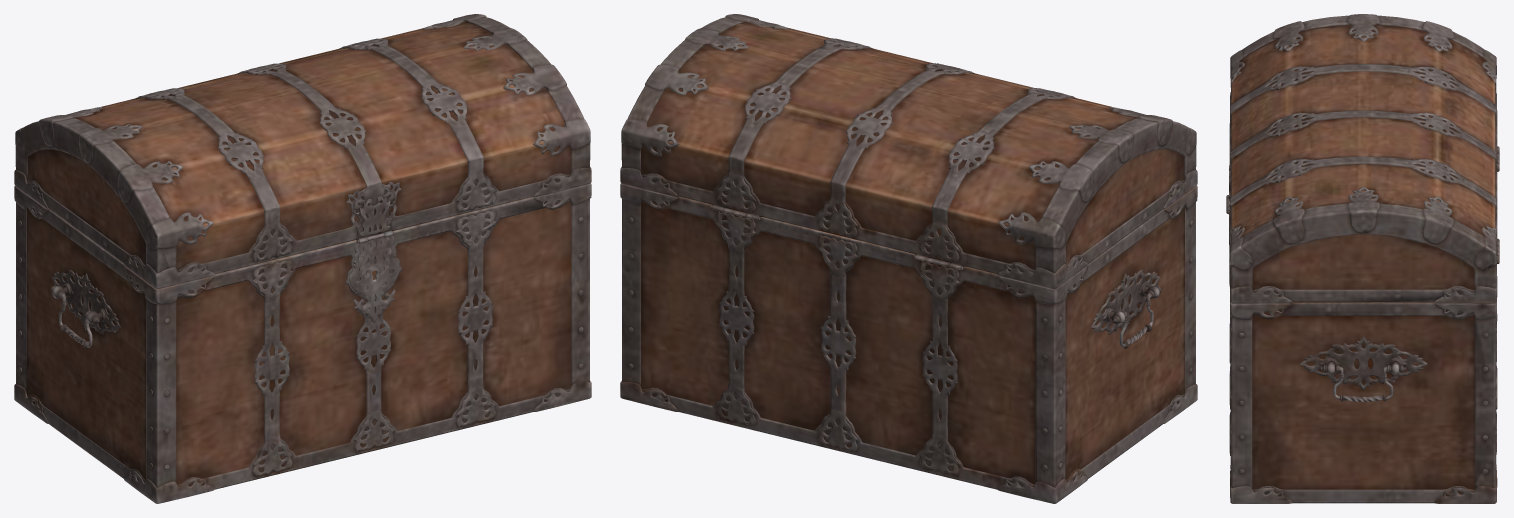
The model's file is storage_chest.glb.
3 renders of one model, left to right at view 1: azimuth 30°, elevation 25°; view 2: azimuth 150°, elevation 25°; view 3: azimuth 270°, elevation 25°, orthographic. The views are drawn at different scales.
Visible parts, largest first — view 1: treasure_chest_bottom; view 2: treasure_chest_bottom; view 3: treasure_chest_bottom.
Boxes of the visible parts, x1,y1,x2,y2 form: treasure_chest_bottom: (14, 14, 591, 503); treasure_chest_bottom: (620, 14, 1197, 503); treasure_chest_bottom: (1226, 14, 1499, 503).
Size of the model in its own units: 0.959 by 0.619 by 0.5229.
1 material, 1 textured.
